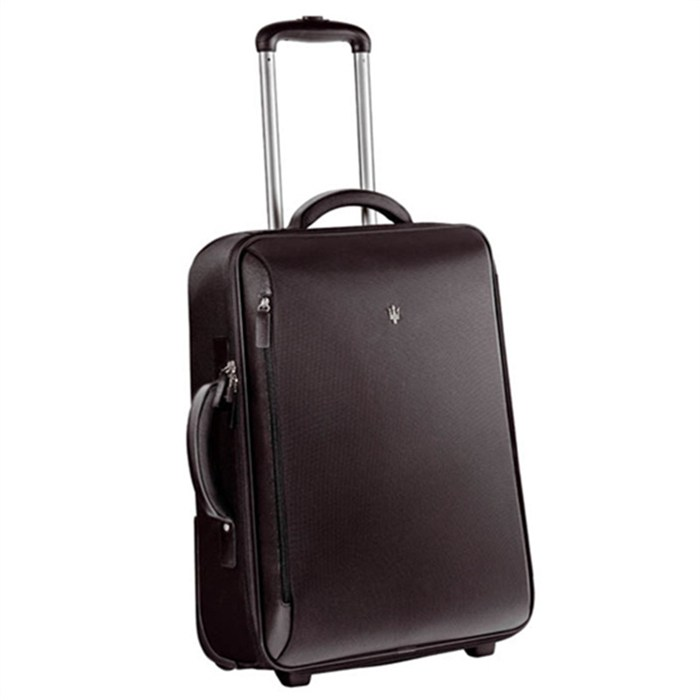luggage: (182, 12, 541, 687)
